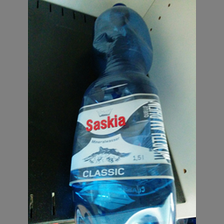water: (74, 2, 177, 224)
